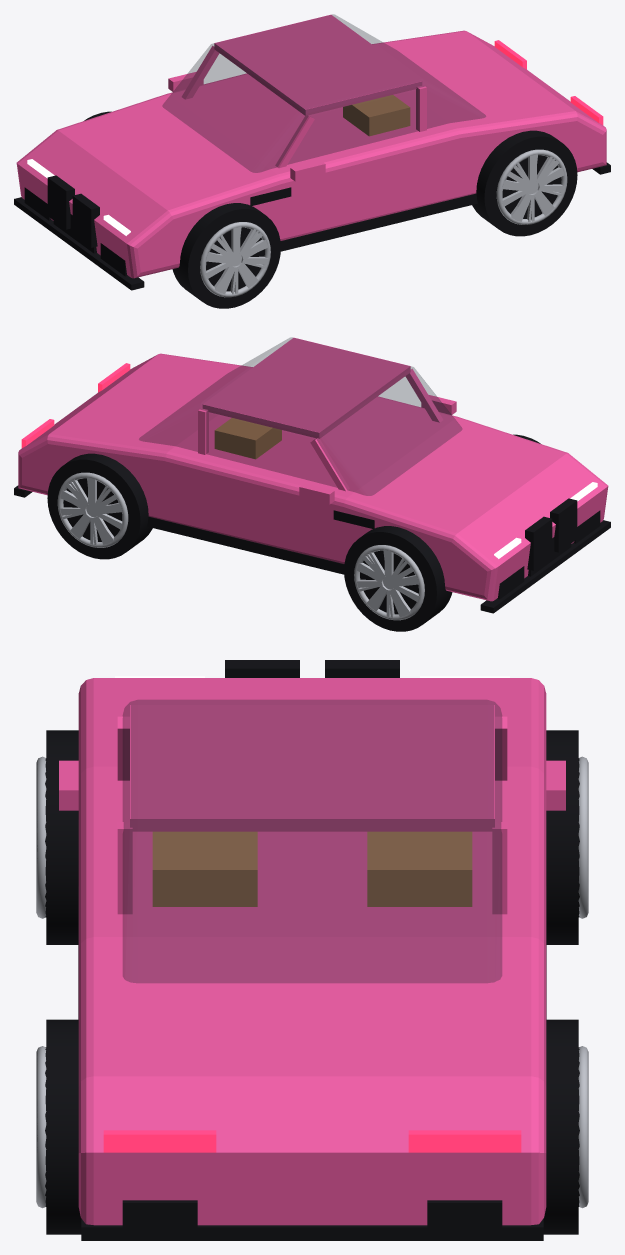
File: bmw.glb
3 renders of one model, top to bottom at view 1: azimuth 30°, elevation 25°; view 2: azimuth 150°, elevation 25°; view 3: azimuth 270°, elevation 25°, orthographic. The views are drawn at different scales.
Visible parts, largest first — view 1: object 1, object 2, roof, object 50, object 122, object 12, object 171, object 167, object 124, object 52, object 174, object 173 (+9 smaller); view 2: object 1, object 2, roof, object 14, object 86, object 7, object 169, object 167, object 88, object 16, object 173, object 174 (+9 smaller); view 3: object 1, object 2, roof, object 169, object 171, object 86, object 122, object 168, object 14, object 50, object 161, object 165 (+14 smaller).
Part boxes in pixels (box(x1,y1,x2,y2)): object 1: box(16, 30, 606, 278); object 2: box(162, 14, 485, 172); roof: box(214, 14, 422, 115); object 50: box(172, 203, 280, 308); object 122: box(472, 130, 577, 236); object 12: box(280, 193, 477, 251); object 171: box(343, 95, 410, 136); object 167: box(14, 197, 144, 290); object 124: box(496, 149, 567, 224); object 52: box(200, 222, 270, 297); object 174: box(72, 193, 99, 247); object 173: box(47, 175, 74, 229); object 1: box(18, 353, 608, 601); object 2: box(139, 337, 461, 495); roof: box(202, 337, 410, 438); object 14: box(344, 526, 452, 631); object 86: box(47, 453, 152, 559); object 7: box(147, 516, 344, 574); object 169: box(214, 418, 281, 459); object 167: box(480, 520, 610, 613); object 88: box(57, 472, 128, 547); object 16: box(354, 545, 424, 620); object 173: box(525, 516, 552, 570); object 174: box(550, 498, 577, 552); object 1: box(78, 678, 546, 1225); object 2: box(123, 700, 501, 982); roof: box(130, 705, 494, 831); object 169: box(367, 831, 472, 906); object 171: box(152, 831, 257, 906); object 86: box(543, 1019, 578, 1234); object 122: box(46, 1019, 81, 1234); object 168: box(81, 1218, 543, 1240); object 14: box(546, 730, 578, 944); object 50: box(46, 730, 78, 944); object 161: box(427, 1200, 502, 1234); object 165: box(122, 1200, 197, 1234).
Size of the model in its own units: 4.47 by 1.42 by 2.21.
